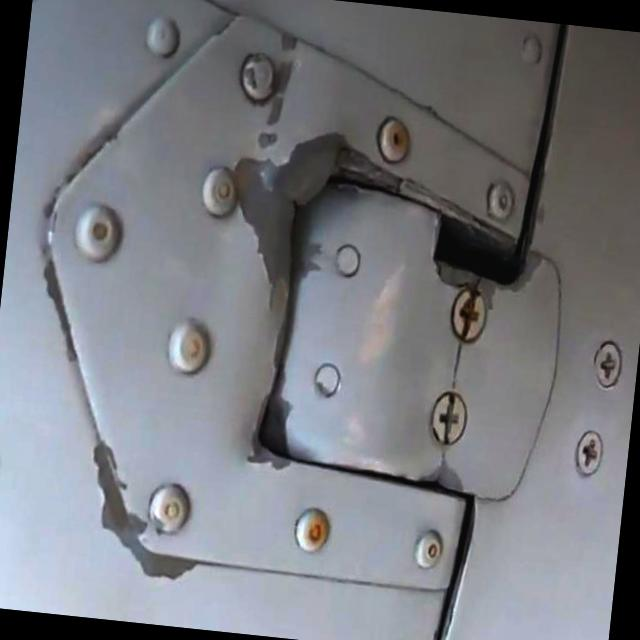crack: (444, 339, 466, 388)
